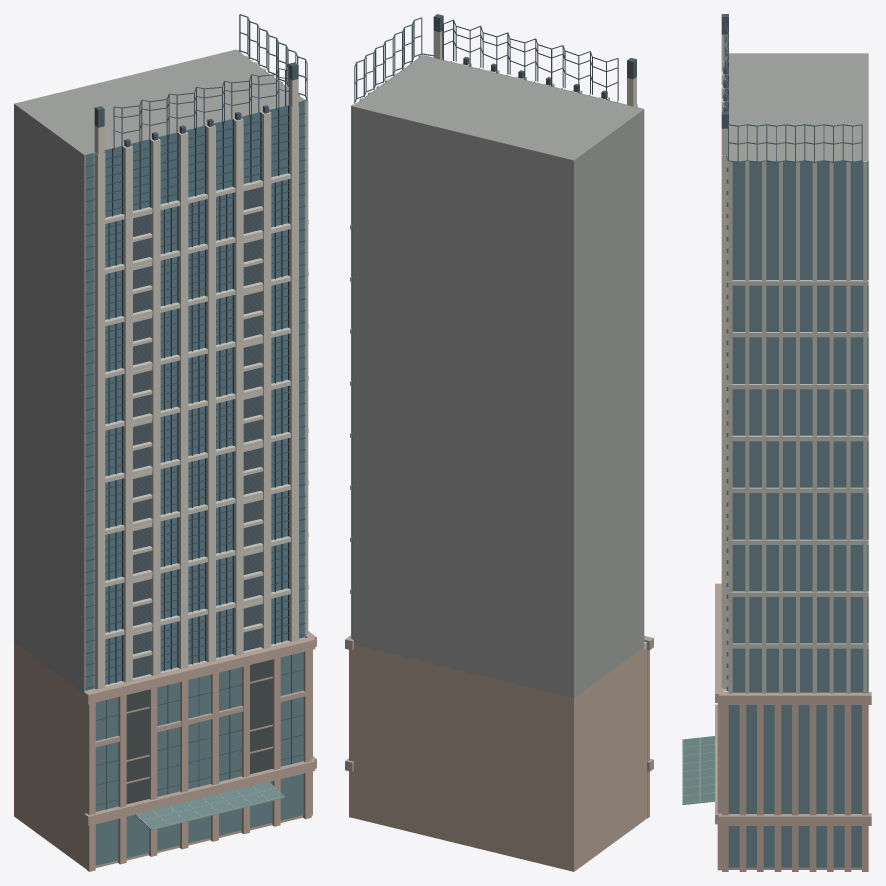
The model's file is detail.glb.
3 renders of one model, left to right at view 1: azimuth 30°, elevation 25°; view 2: azimuth 150°, elevation 25°; view 3: azimuth 270°, elevation 25°, orthographic.
Parts seen in each view (by area): view 1: KEEP_G_KEEP_Gonghe_Pale_stone_approx, KEEP_H_assumed_back_roof_depth, KEEP_G_KEEP_Gonghe_Bluegray_closed_glazing_approx, KEEP_G_KEEP_Gonghe_Dark_metal_approx, KEEP_H_foot_pinkstone_approx, K_DISPLAY_lower_front_and_unchanged_sides, K_upper_field.002, KEEP_G_KEEP_G_CROWN_G_CROWN_FRAME_APPROX, I_CANOPY_GLASS_APPEARANCE, KEEP_H_side_cream_approx, K_glass_centre_mullion, I_SIDE_SCREEN_FRAME_APPROX (+2 smaller); view 2: KEEP_H_assumed_back_roof_depth, KEEP_H_foot_pinkstone_approx, KEEP_G_KEEP_G_CROWN_G_CROWN_FRAME_APPROX, I_SIDE_SCREEN_FRAME_APPROX, KEEP_H_side_cream_approx, K_DISPLAY_lower_front_and_unchanged_sides; view 3: K_DISPLAY_lower_front_and_unchanged_sides, KEEP_H_side_cream_approx, KEEP_H_foot_pinkstone_approx, KEEP_H_assumed_back_roof_depth, KEEP_G_KEEP_Gonghe_Pale_stone_approx, I_CANOPY_GLASS_APPEARANCE, I_SIDE_SCREEN_FRAME_APPROX, KEEP_G_KEEP_G_CROWN_G_CROWN_FRAME_APPROX, KEEP_G_KEEP_Gonghe_Dark_metal_approx, I_CANOPY_FRAME_APPROX.
Boxes of the visible parts, bbox=[...] form: KEEP_G_KEEP_Gonghe_Pale_stone_approx: bbox=[84, 105, 305, 696]; KEEP_H_assumed_back_roof_depth: bbox=[14, 49, 305, 693]; KEEP_G_KEEP_Gonghe_Bluegray_closed_glazing_approx: bbox=[85, 101, 304, 690]; KEEP_G_KEEP_Gonghe_Dark_metal_approx: bbox=[85, 105, 305, 688]; KEEP_H_foot_pinkstone_approx: bbox=[14, 631, 316, 871]; K_DISPLAY_lower_front_and_unchanged_sides: bbox=[95, 49, 303, 865]; K_upper_field.002: bbox=[126, 659, 272, 804]; KEEP_G_KEEP_G_CROWN_G_CROWN_FRAME_APPROX: bbox=[94, 62, 298, 149]; I_CANOPY_GLASS_APPEARANCE: bbox=[136, 782, 283, 828]; KEEP_H_side_cream_approx: bbox=[236, 49, 308, 635]; K_glass_centre_mullion: bbox=[95, 655, 303, 809]; I_SIDE_SCREEN_FRAME_APPROX: bbox=[239, 14, 307, 103]; KEEP_H_assumed_back_roof_depth: bbox=[353, 55, 644, 698]; KEEP_H_foot_pinkstone_approx: bbox=[345, 635, 653, 871]; KEEP_G_KEEP_G_CROWN_G_CROWN_FRAME_APPROX: bbox=[433, 14, 636, 100]; I_SIDE_SCREEN_FRAME_APPROX: bbox=[354, 17, 433, 103]; KEEP_H_side_cream_approx: bbox=[350, 55, 423, 638]; K_DISPLAY_lower_front_and_unchanged_sides: bbox=[352, 56, 420, 639]; K_DISPLAY_lower_front_and_unchanged_sides: bbox=[728, 161, 868, 867]; KEEP_H_side_cream_approx: bbox=[728, 161, 868, 693]; KEEP_H_foot_pinkstone_approx: bbox=[715, 583, 871, 871]; KEEP_H_assumed_back_roof_depth: bbox=[729, 53, 868, 160]; KEEP_G_KEEP_Gonghe_Pale_stone_approx: bbox=[721, 61, 728, 691]; I_CANOPY_GLASS_APPEARANCE: bbox=[683, 736, 714, 803]; I_SIDE_SCREEN_FRAME_APPROX: bbox=[725, 124, 862, 163]; KEEP_G_KEEP_G_CROWN_G_CROWN_FRAME_APPROX: bbox=[721, 14, 728, 128]; KEEP_G_KEEP_Gonghe_Dark_metal_approx: bbox=[726, 63, 728, 690]; I_CANOPY_FRAME_APPROX: bbox=[682, 736, 714, 804].
Size of the model in its own units: 41.65 by 131 by 29.79.
